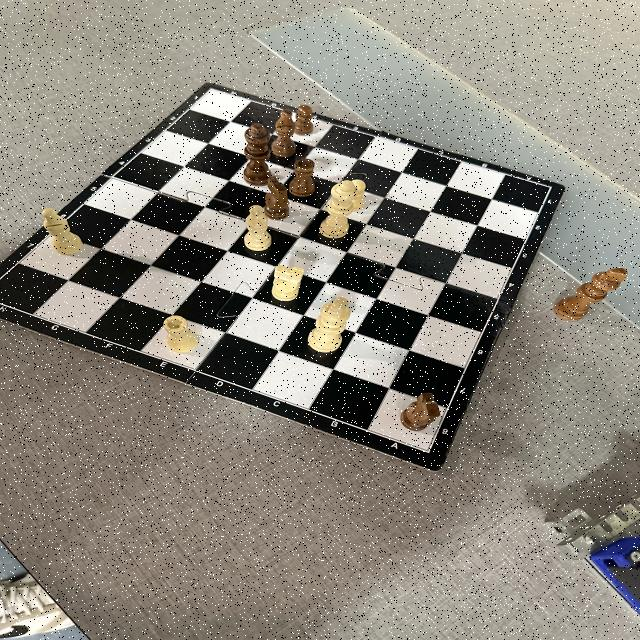Black-Bishop: (272, 110, 296, 158)
Black-King: (554, 268, 628, 322)
Black-Knight: (401, 393, 442, 431), (264, 176, 290, 220)
Black-Pawn: (294, 105, 314, 136)
Black-Queen: (243, 123, 271, 187)
Black-Rook: (288, 158, 316, 196)
White-Bishop: (42, 208, 84, 255), (244, 205, 272, 251)
White-King: (308, 296, 352, 352)
White-Knight: (271, 264, 305, 302)
White-Pawn: (347, 180, 366, 212)
White-Queen: (319, 180, 359, 238)
White-Rook: (164, 315, 198, 353)
